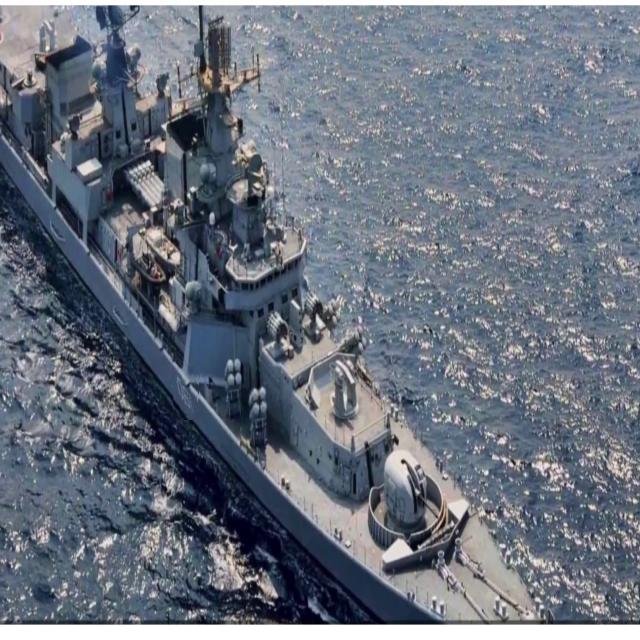OCR: (173, 372, 200, 420)
